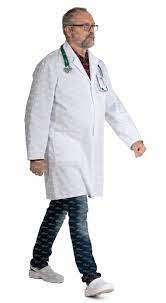hand: (27, 158, 49, 178), (130, 139, 148, 159)
